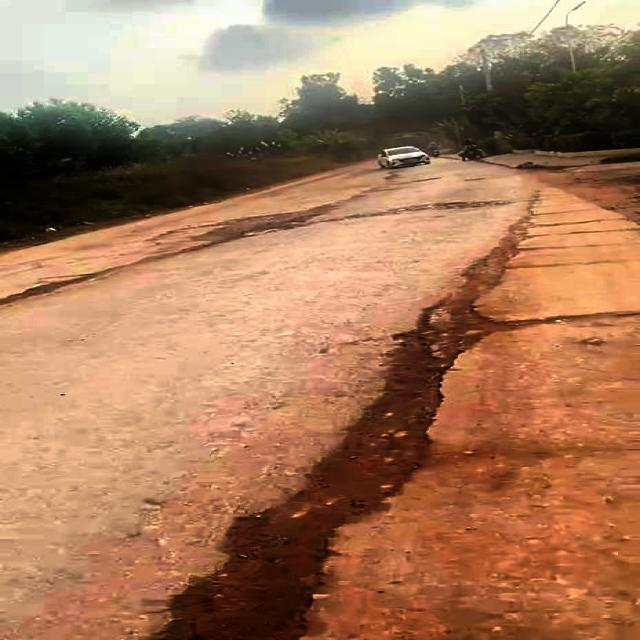pothole: (170, 484, 380, 640), (389, 292, 498, 377)
